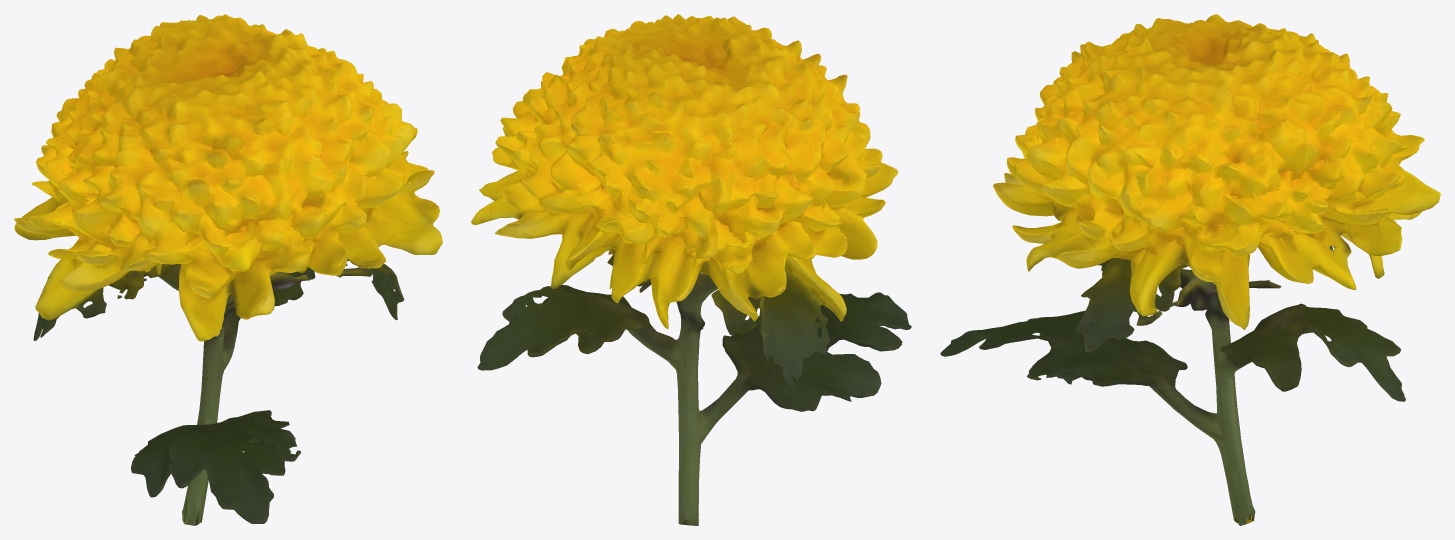
File: chrysanthemum.glb
3 views of the same model, side by side, from view 1: azimuth 30°, elevation 25°; view 2: azimuth 150°, elevation 25°; view 3: azimuth 270°, elevation 25° (orthographic). The views are drawn at different scales.
Visible parts, largest first — view 1: Model_material0_0.001, Model; view 2: Model_material0_0.001, Model; view 3: Model_material0_0.001, Model.
Part boxes in pixels (x1,y1,x2,y2): Model_material0_0.001: [14, 14, 442, 523]; Model: [156, 177, 439, 525]; Model_material0_0.001: [471, 14, 911, 449]; Model: [503, 128, 759, 525]; Model_material0_0.001: [940, 14, 1440, 446]; Model: [1027, 164, 1364, 525].
Size of the model in its own units: 0.1315 by 0.1645 by 0.1502.
1 material, 1 textured.
